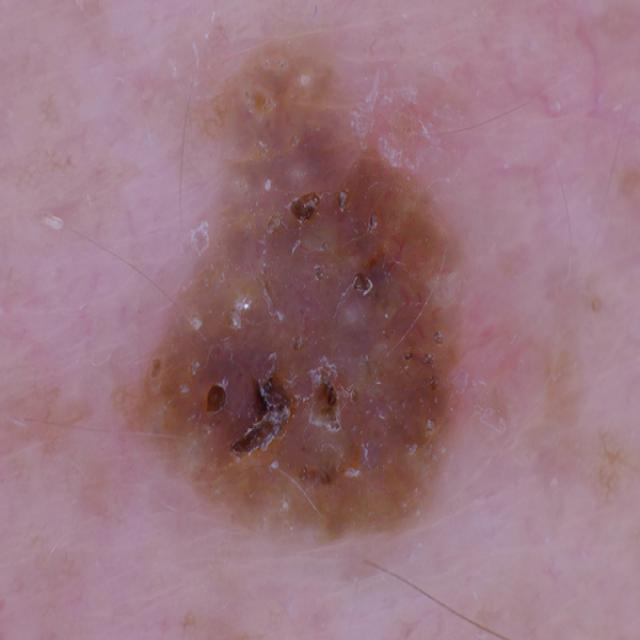Skin-Cancer Pigmented benign keratosis: (48, 17, 626, 640)
